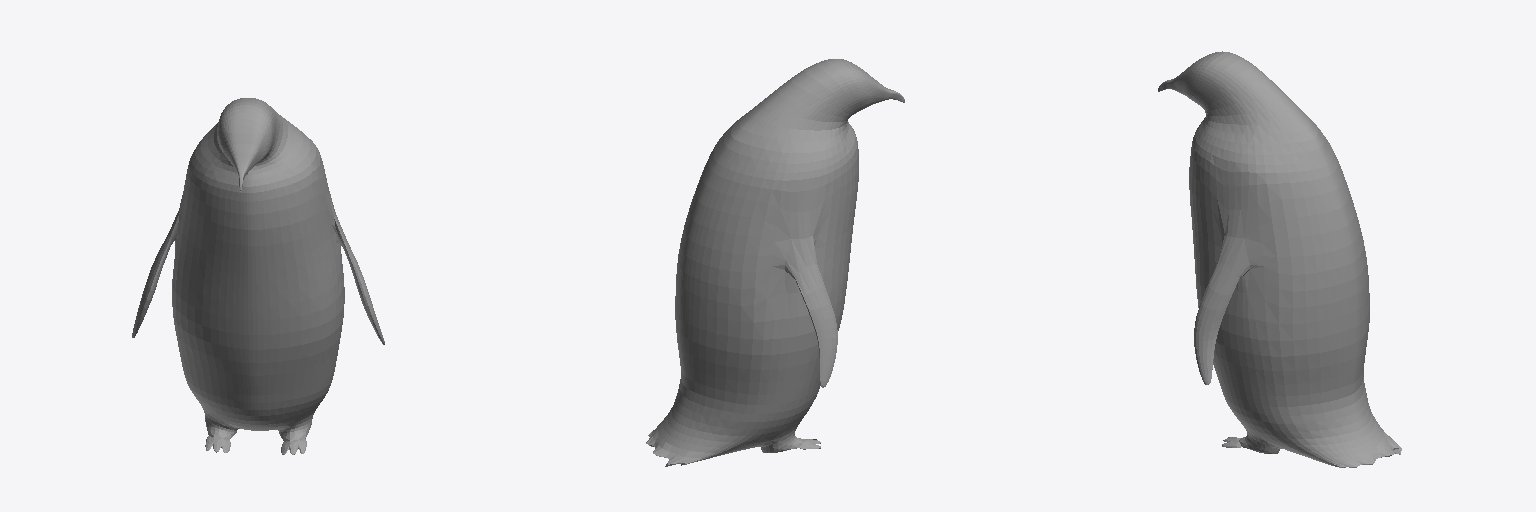
The model's file is penguin1.obj.
3 renders of one model, left to right at view 1: azimuth 30°, elevation 25°; view 2: azimuth 150°, elevation 25°; view 3: azimuth 270°, elevation 25°, orthographic.
Parts seen in each view (by area): view 1: Penguin_Cylinder.001; view 2: Penguin_Cylinder.001; view 3: Penguin_Cylinder.001.
Part boxes in pixels (left/top/right/bottom): Penguin_Cylinder.001: left=132, top=98, right=384, bottom=454; Penguin_Cylinder.001: left=646, top=59, right=904, bottom=466; Penguin_Cylinder.001: left=1158, top=51, right=1401, bottom=467.
Size of the model in its own units: 2.03 by 3.82 by 2.33.